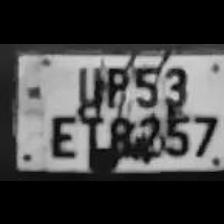2: (132, 110, 160, 160)
3: (159, 60, 191, 112)
5: (161, 102, 191, 156), (128, 60, 160, 108)
7: (189, 108, 219, 158)
8: (106, 110, 134, 162)
E: (46, 110, 78, 158)
P: (103, 62, 130, 112)
T: (76, 110, 106, 164)
U: (72, 61, 104, 116)
